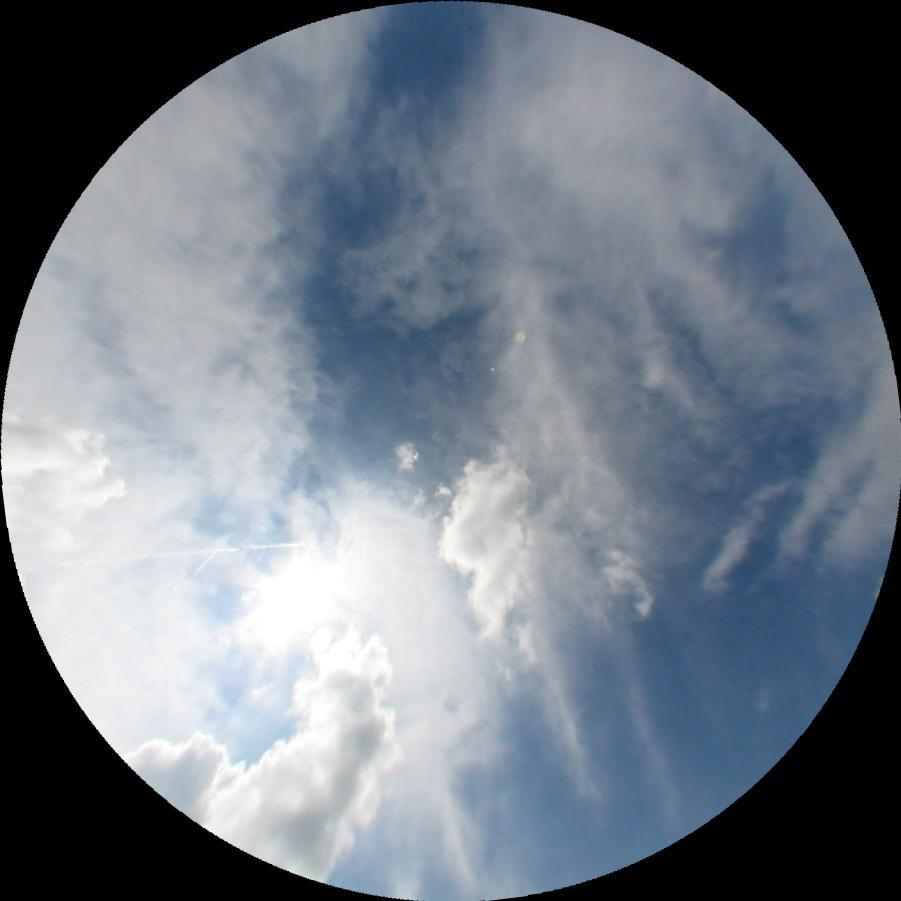contrail young: (191, 549, 217, 576)
parasite: (58, 539, 305, 566)
sun: (245, 562, 333, 645)
